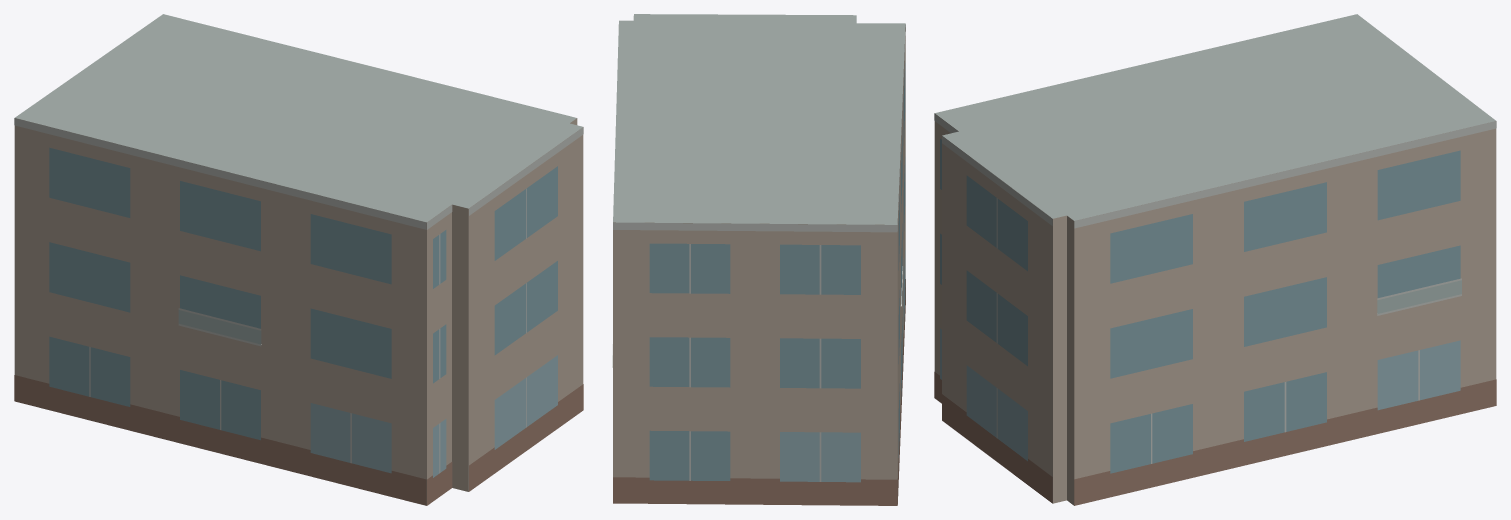
The model's file is survey-upis-32891425.glb.
3 views of the same model, side by side, from view 1: azimuth 30°, elevation 25°; view 2: azimuth 150°, elevation 25°; view 3: azimuth 270°, elevation 25° (orthographic).
Parts seen in each view (by area): view 1: survey-upis-32891425.tmp; view 2: survey-upis-32891425.tmp; view 3: survey-upis-32891425.tmp.
Part boxes in pixels (x1,y1,x2,y2): survey-upis-32891425.tmp: [14, 14, 583, 505]; survey-upis-32891425.tmp: [612, 14, 905, 505]; survey-upis-32891425.tmp: [934, 14, 1496, 505].
Size of the model in its own units: 14.26 by 9.15 by 16.36.
